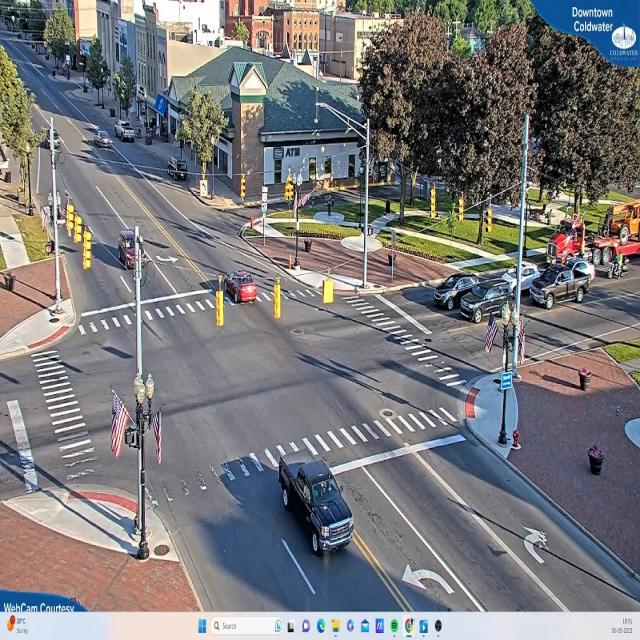car: (279, 452, 355, 556), (528, 257, 594, 309), (461, 277, 514, 324), (114, 229, 149, 275), (502, 257, 540, 293), (433, 271, 468, 308), (223, 270, 257, 306), (118, 125, 137, 143), (96, 133, 112, 147)
